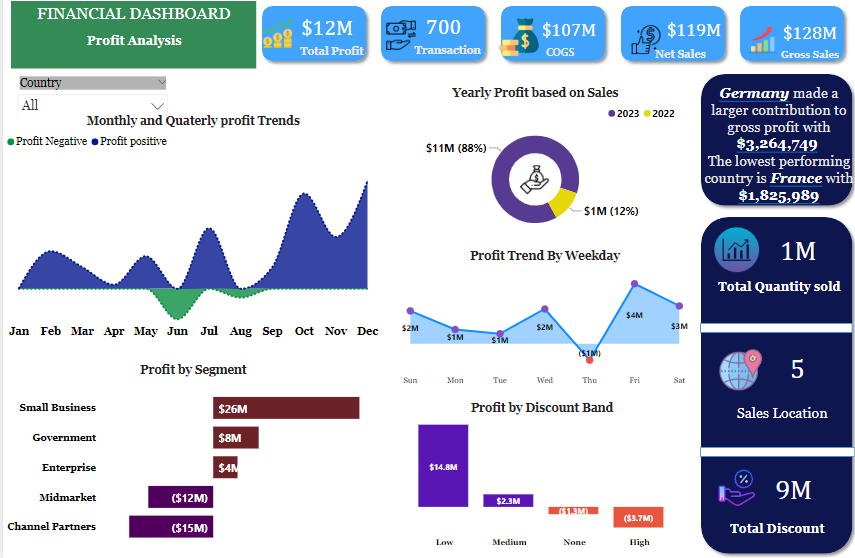

The page's visual inventory and layout, read from the dashboard file:
{"tool":"powerbi","page":{"name":"Page 1","canvas":[1280,850],"ordinal":0},"visuals":[{"type":"textbox","box":[11.7,13.4,367.4,100.7],"z":0},{"type":"shape","box":[1094.1,12.7,173.6,100.2],"z":1000},{"type":"shape","box":[557.3,12.7,173.6,100.2],"z":2000},{"type":"shape","box":[736.2,12.7,173.6,100.2],"z":3000},{"type":"shape","box":[915.2,12.7,173.6,100.2],"z":4000},{"type":"shape","box":[378.4,12.7,173.6,100.2],"z":5000},{"type":"card","fields":{"Values":["DAX Calculations.Total Profit"]},"box":[436.4,34,97.4,36.7],"z":6000},{"type":"textbox","box":[430.7,74.9,121.4,32.5],"z":7000},{"type":"textbox","box":[604.2,73.4,121.4,32.5],"z":8000},{"type":"card","fields":{"Values":["DAX Calculations.Transaction"]},"box":[609.9,32.5,97.4,36.7],"z":9000},{"type":"card","fields":{"Values":["DAX Calculations.COGS"]},"box":[797.5,32.8,98.5,45.9],"z":10000},{"type":"textbox","box":[1152,79.1,110.1,26.8],"z":11000},{"type":"card","fields":{"Values":["DAX Calculations.Gross Sales"]},"box":[1157.6,38.1,97.4,46.6],"z":12000},{"type":"textbox","box":[962.8,79.1,103.1,32.5],"z":13000},{"type":"card","fields":{"Values":["DAX Calculations.Net Sales"]},"box":[986.2,32.8,96.8,45.9],"z":14000},{"type":"textbox","box":[772.2,73.4,122.8,32.5],"z":15000},{"type":"areaChart","title":"Monthly and Quaterly profit Trends","fields":{"Category":["Calendar.Qtr","Calendar.Month"],"Y":["DAX Calculations.Profit Negative","DAX Calculations.Profit positive"]},"box":[0,182.1,569.4,354.4],"z":16000},{"type":"stackedAreaChart","title":"Profit Trend By Weekday","fields":{"Category":["Calendar.Weekday"],"Y":["DAX Calculations.Total Profit"]},"box":[577.1,384.2,466.4,223.1],"z":17000},{"type":"donutChart","title":"Yearly Profit based on Sales","fields":{"Y":["DAX Calculations.Total Profit"],"Category":["Calendar.Year"]},"box":[577.1,140.9,437.9,228.2],"z":18000},{"type":"shape","box":[1035.4,328.2,244.5,521.8],"z":19000},{"type":"textbox","box":[107.4,57,177.8,38.6],"z":20000},{"type":"shape","box":[1035.4,113.2,244.5,215],"z":21000},{"type":"textbox","box":[1060,425,205.1,37.7],"z":22000},{"type":"barChart","title":"Profit by Segment","fields":{"Category":["financials.Segment"],"Y":["DAX Calculations.Total Profit"]},"box":[0,554.6,569.4,295.4],"z":23000},{"type":"card","fields":{"Values":["Sum(financials.Units Sold)"]},"box":[1053.5,356.1,218.2,57.4],"z":24000},{"type":"columnChart","title":"Profit by Discount Band","fields":{"Category":["financials.Discount Band"],"Y":["DAX Calculations.Total Profit"]},"box":[577.6,612.1,457.8,237.9],"z":25000},{"type":"card","fields":{"Values":["Sum(financials.Discounts)"]},"box":[1058.6,696.2,199.6,92.3],"z":26000},{"type":"textbox","box":[1060,787.6,198.6,42.7],"z":27000},{"type":"textbox","box":[1053.5,612.1,224.8,42.7],"z":28000},{"type":"card","fields":{"Values":["Count(financials.Country)"]},"box":[1053.5,516.9,218.2,90.3],"z":29000},{"type":"shape","box":[1043.6,681,231.4,14.8],"z":30000},{"type":"shape","box":[1043.6,495.6,228.1,14.8],"z":31000},{"type":"slicer","fields":{"Values":["financials.Country"]},"box":[11.5,121.4,367.6,60.7],"z":32000},{"type":"textbox","box":[1043.6,132.9,236.3,195.3],"z":33000},{"type":"image","box":[768,254.3,54.2,52.5],"z":33001},{"type":"image","box":[384,34.5,52.5,54.2],"z":33002},{"type":"image","box":[569.4,34.5,54.2,60.7],"z":33003},{"type":"image","box":[1060,344.6,77.1,82],"z":33005},{"type":"image","box":[933.7,44.3,57.4,52.5],"z":33006},{"type":"image","box":[738.4,32.8,68.9,68.9],"z":33007},{"type":"image","box":[1107.6,44.3,59.1,52.5],"z":33008},{"type":"image","box":[1066.6,525.1,73.8,82],"z":33010},{"type":"image","box":[1060,700.7,77.1,82],"z":33011}]}

Visuals, with their boxes in screenshot pixels (x1, y1, x2, y2), scaled from the page's 1280x850 canvas onto the 855x558 screenshot:
textbox: left=8, top=9, right=253, bottom=75
shape: left=731, top=8, right=847, bottom=74
shape: left=372, top=8, right=488, bottom=74
shape: left=492, top=8, right=608, bottom=74
shape: left=611, top=8, right=727, bottom=74
shape: left=253, top=8, right=369, bottom=74
card - DAX Calculations.Total Profit: left=292, top=22, right=357, bottom=46
textbox: left=288, top=49, right=369, bottom=71
textbox: left=404, top=48, right=485, bottom=70
card - DAX Calculations.Transaction: left=407, top=21, right=472, bottom=45
card - DAX Calculations.COGS: left=533, top=22, right=598, bottom=52
textbox: left=770, top=52, right=843, bottom=70
card - DAX Calculations.Gross Sales: left=773, top=25, right=838, bottom=56
textbox: left=643, top=52, right=712, bottom=73
card - DAX Calculations.Net Sales: left=659, top=22, right=723, bottom=52
textbox: left=516, top=48, right=598, bottom=70
"Monthly and Quaterly profit Trends" areaChart: left=0, top=120, right=380, bottom=352
"Profit Trend By Weekday" stackedAreaChart: left=385, top=252, right=697, bottom=399
"Yearly Profit based on Sales" donutChart: left=385, top=92, right=678, bottom=242
shape: left=692, top=215, right=854, bottom=557
textbox: left=72, top=37, right=191, bottom=63
shape: left=692, top=74, right=854, bottom=215
textbox: left=708, top=279, right=845, bottom=304
"Profit by Segment" barChart: left=0, top=364, right=380, bottom=557
card - Sum(financials.Units Sold): left=704, top=234, right=849, bottom=271
"Profit by Discount Band" columnChart: left=386, top=402, right=692, bottom=557
card - Sum(financials.Discounts): left=707, top=457, right=840, bottom=518
textbox: left=708, top=517, right=841, bottom=545
textbox: left=704, top=402, right=854, bottom=430
card - Count(financials.Country): left=704, top=339, right=849, bottom=399
shape: left=697, top=447, right=852, bottom=457
shape: left=697, top=325, right=849, bottom=335
slicer - financials.Country: left=8, top=80, right=253, bottom=120
textbox: left=697, top=87, right=854, bottom=215
image: left=513, top=167, right=549, bottom=201
image: left=256, top=23, right=292, bottom=58
image: left=380, top=23, right=417, bottom=62
image: left=708, top=226, right=760, bottom=280
image: left=624, top=29, right=662, bottom=64
image: left=493, top=22, right=539, bottom=67
image: left=740, top=29, right=779, bottom=64
image: left=712, top=345, right=762, bottom=399
image: left=708, top=460, right=760, bottom=514
